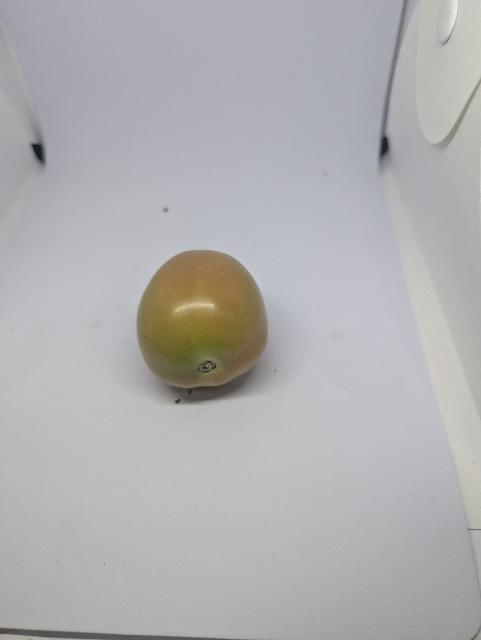breaker: (137, 250, 268, 388)
